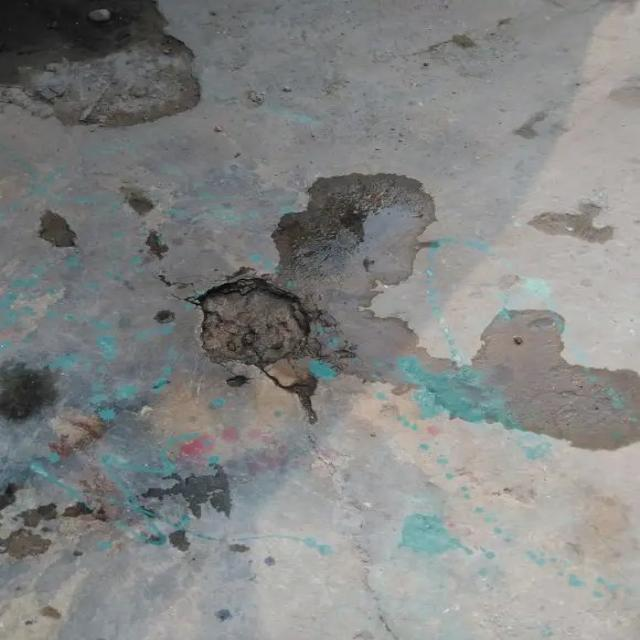Pothole: (171, 274, 338, 386)
